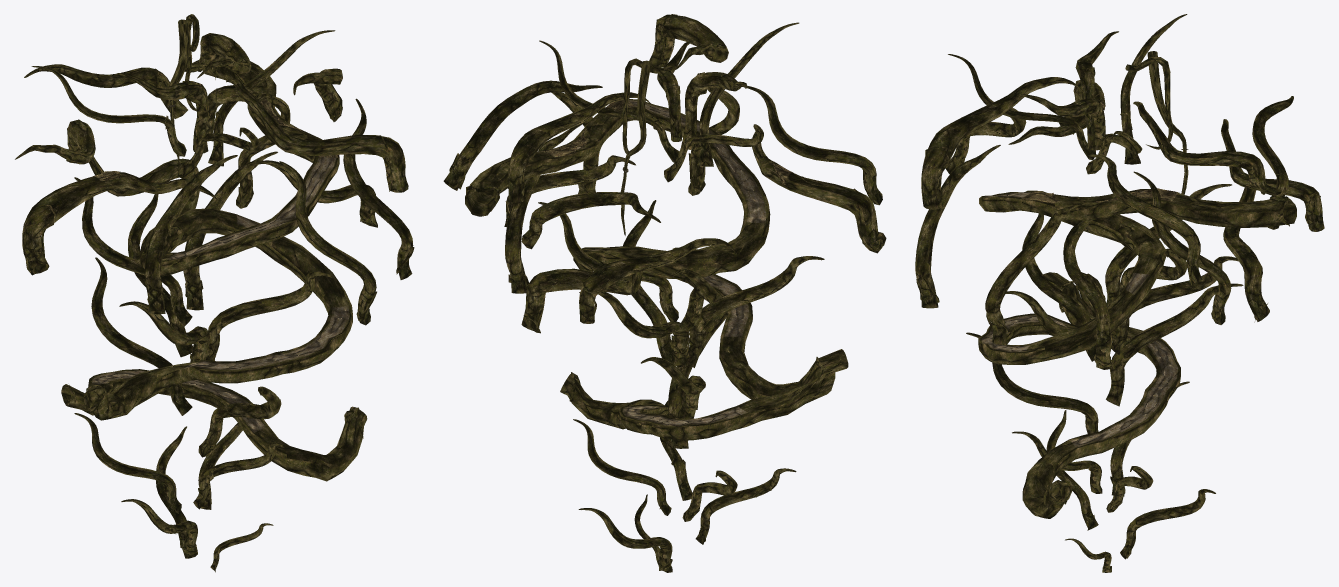
3 renders of one model, left to right at view 1: azimuth 30°, elevation 25°; view 2: azimuth 150°, elevation 25°; view 3: azimuth 270°, elevation 25°, orthographic. The views are drawn at different scales.
Visible parts, largest first — view 1: mesh1, mesh0, mesh5, mesh3; view 2: mesh1, mesh0, mesh5, mesh3, mesh4; view 3: mesh1, mesh5, mesh0, mesh3, mesh4.
Part boxes in pixels (x1=…): mesh1: x1=15, y1=14, x2=413, y2=570; mesh0: x1=92, y1=157, x2=349, y2=432; mesh5: x1=88, y1=103, x2=352, y2=457; mesh3: x1=25, y1=54, x2=414, y2=572; mesh1: x1=443, y1=14, x2=886, y2=572; mesh0: x1=576, y1=100, x2=766, y2=426; mesh5: x1=550, y1=99, x2=769, y2=427; mesh3: x1=449, y1=14, x2=882, y2=570; mesh4: x1=541, y1=100, x2=792, y2=184; mesh1: x1=915, y1=14, x2=1324, y2=569; mesh5: x1=978, y1=189, x2=1180, y2=470; mesh0: x1=981, y1=190, x2=1178, y2=447; mesh3: x1=916, y1=67, x2=1320, y2=572; mesh4: x1=1021, y1=101, x2=1179, y2=203.
Size of the model in its own units: 41.27 by 55.4 by 39.67.
